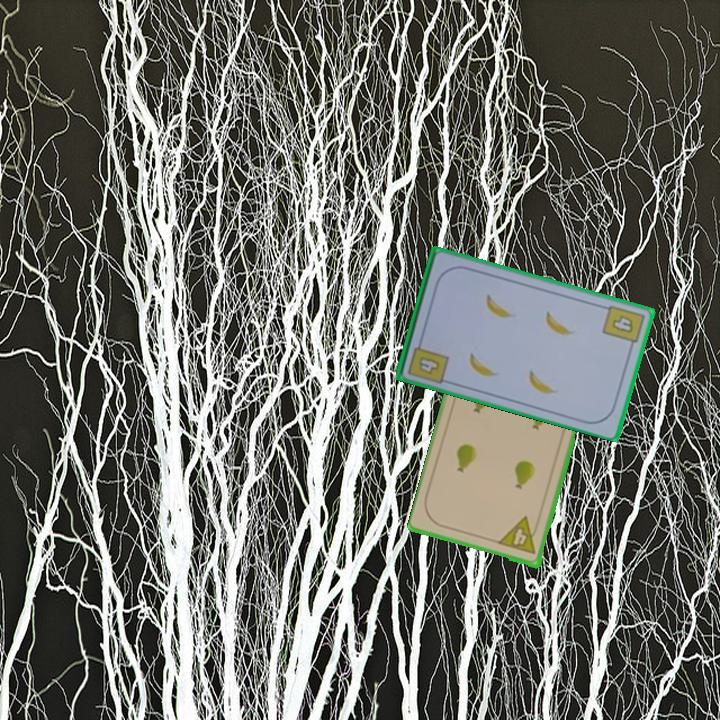4b: (599, 301, 647, 352), (404, 335, 451, 387)
4p: (496, 514, 543, 557)
